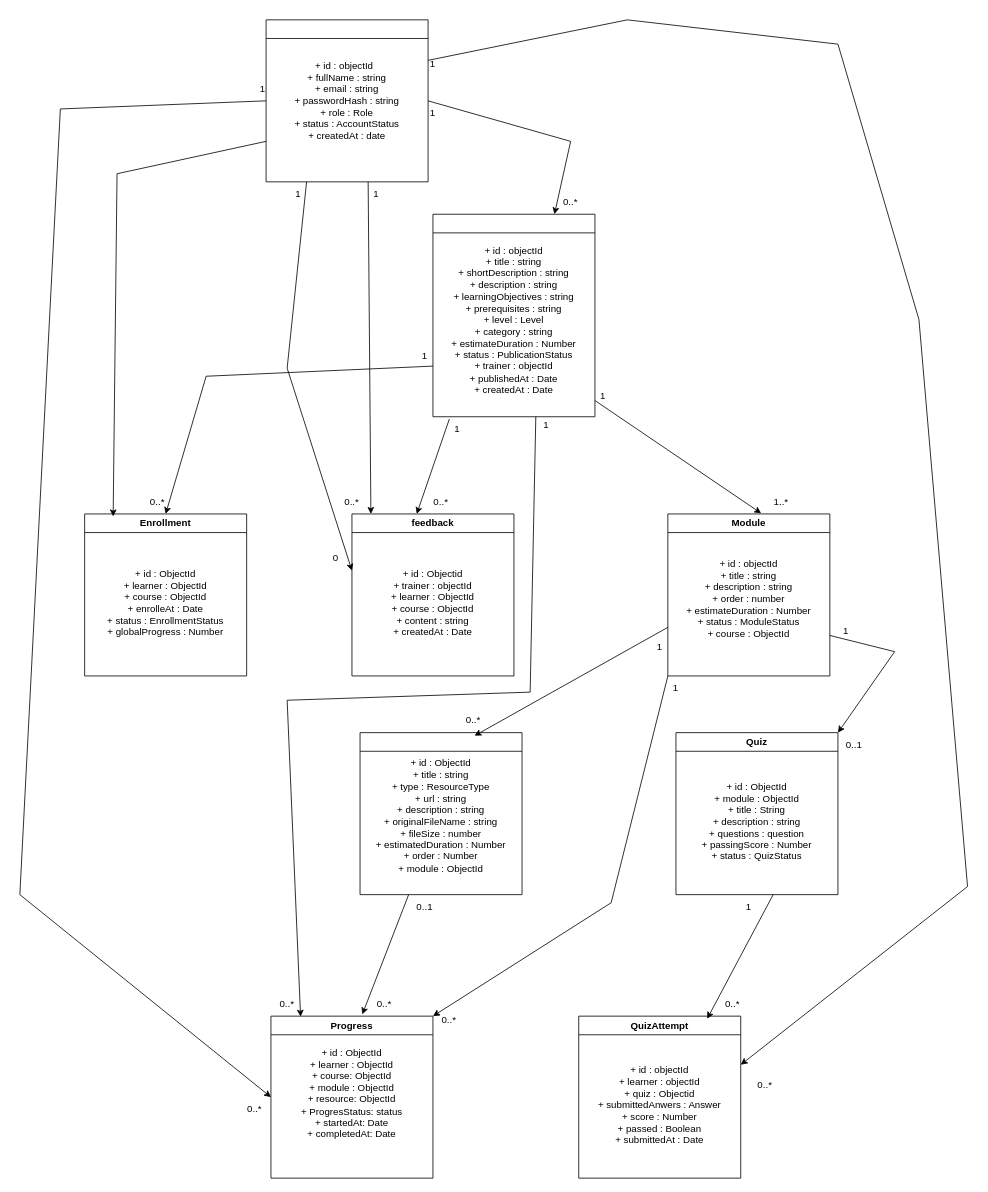
The diagram is 988 pixels wide and 1192 high, and some of its shapes have lost their labels. The box of each missing label's shape, as (x1, y1, x2, y2) in pixels:
course: (432, 213, 595, 417)
Ressource: (359, 732, 522, 895)
user: (265, 19, 428, 182)
